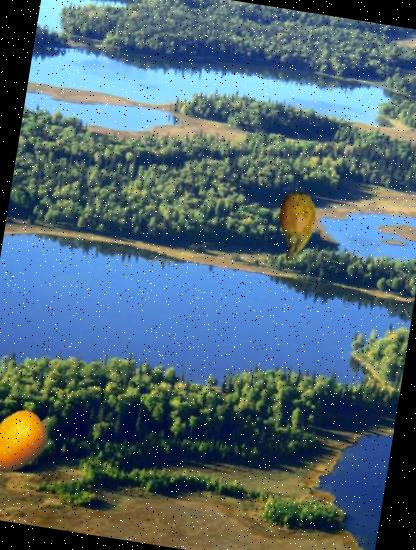Cactus: (255, 185, 339, 269)
Kumquats: (0, 404, 54, 481)
